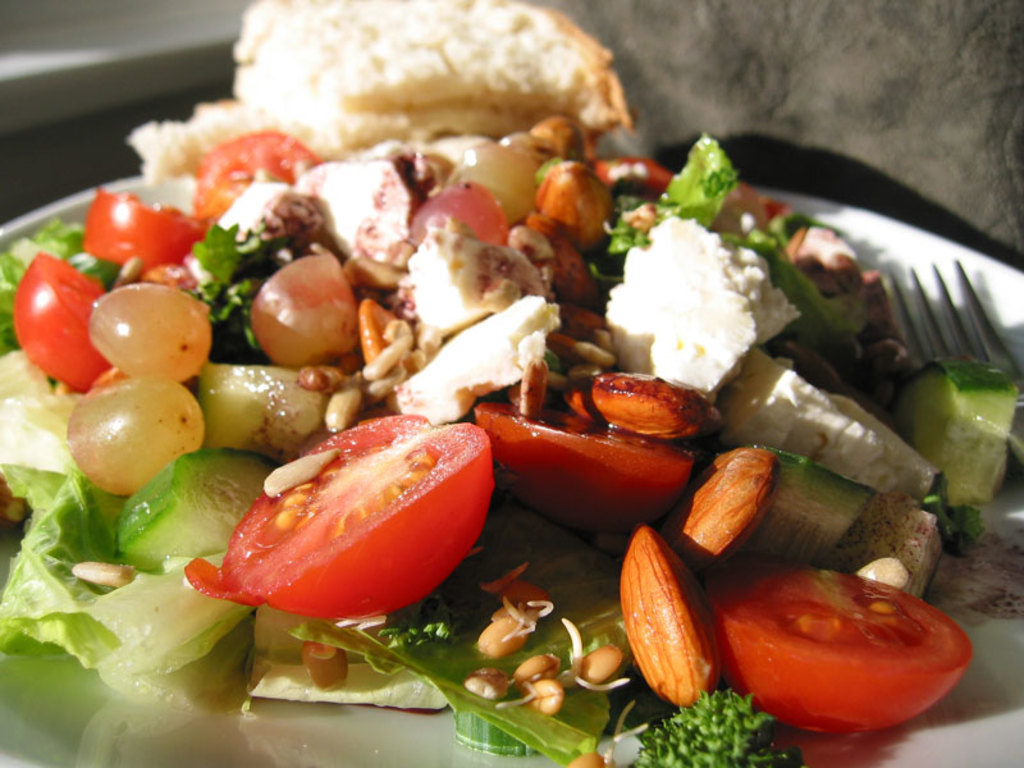Tomato: (232, 419, 492, 616), (710, 558, 972, 734), (5, 248, 117, 390), (195, 122, 321, 232), (69, 184, 208, 276)
